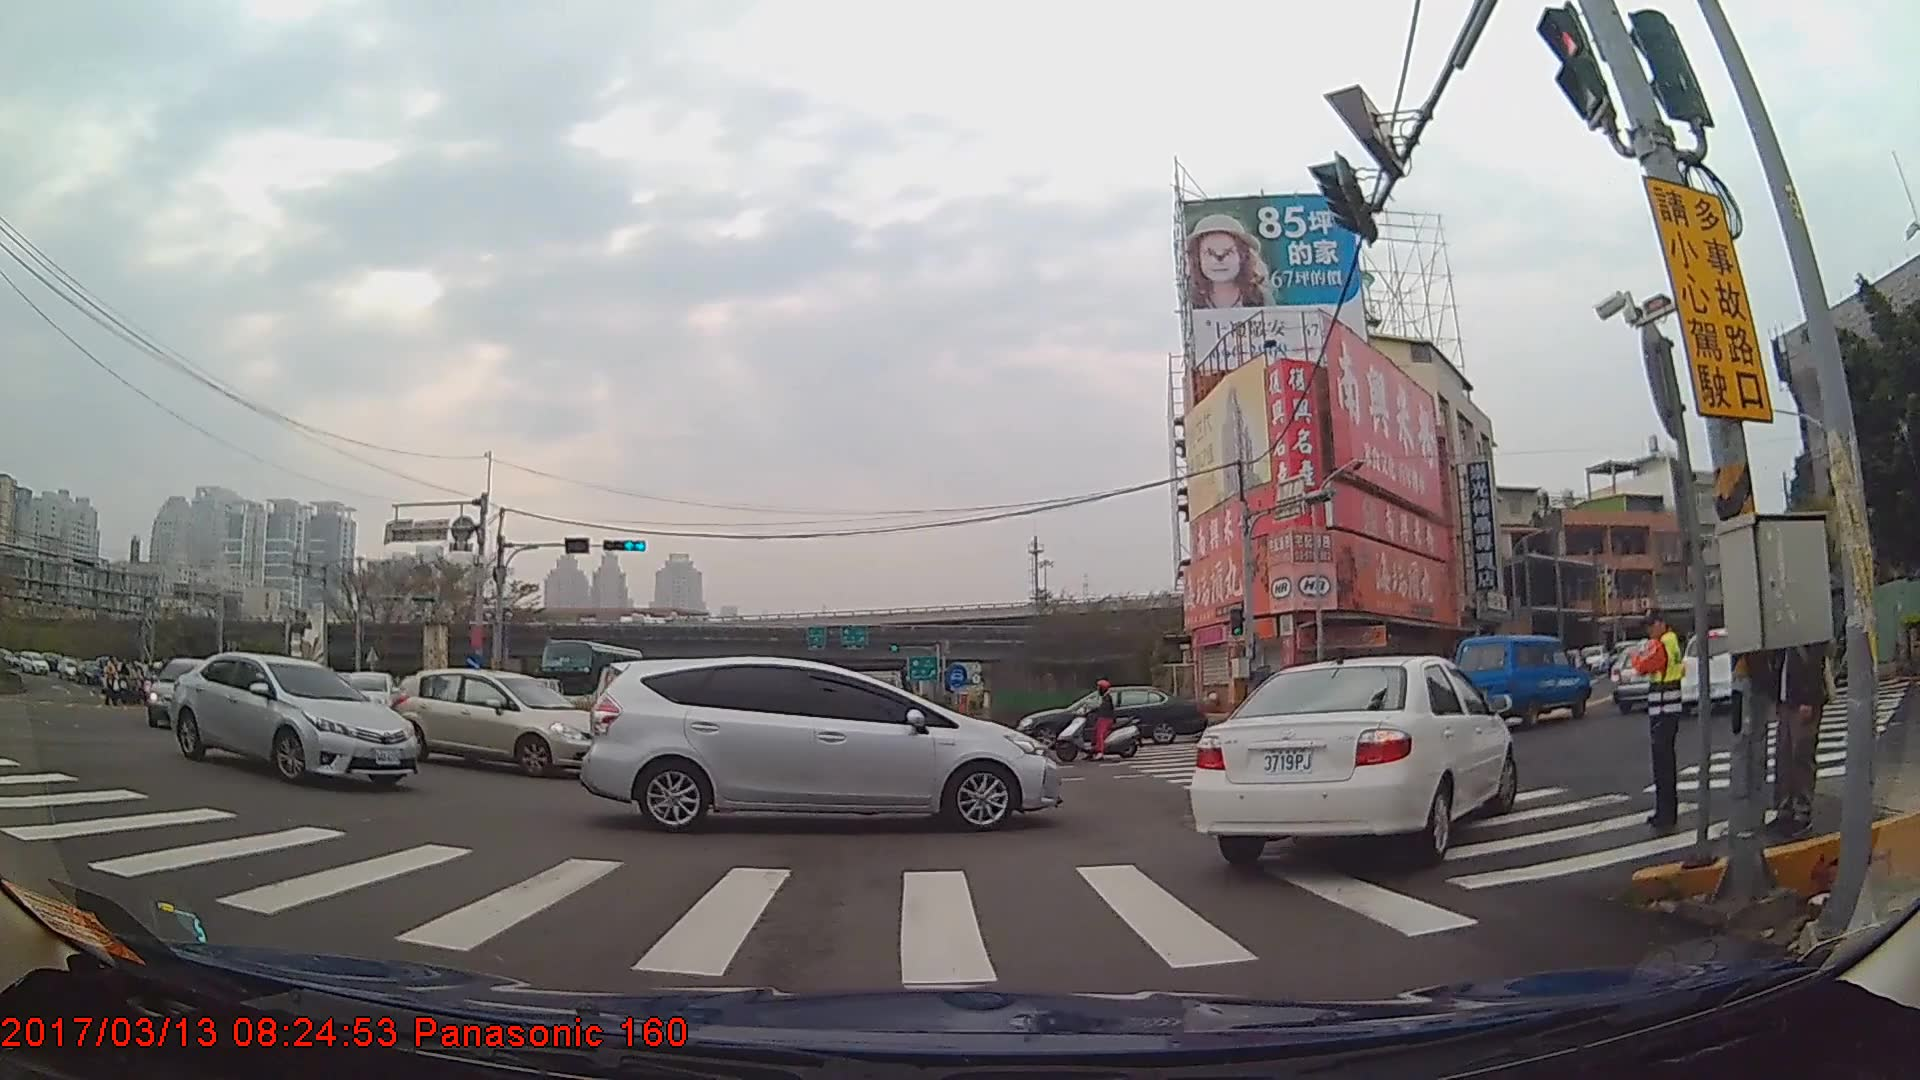pedestrian: (1746, 526, 1837, 843), (1629, 605, 1686, 835)
rider: (1058, 677, 1142, 765)
vehicle: (575, 655, 1062, 834), (1192, 652, 1511, 864), (164, 653, 415, 792), (387, 668, 604, 778), (1017, 682, 1208, 752), (1448, 631, 1591, 724), (147, 656, 224, 727)
